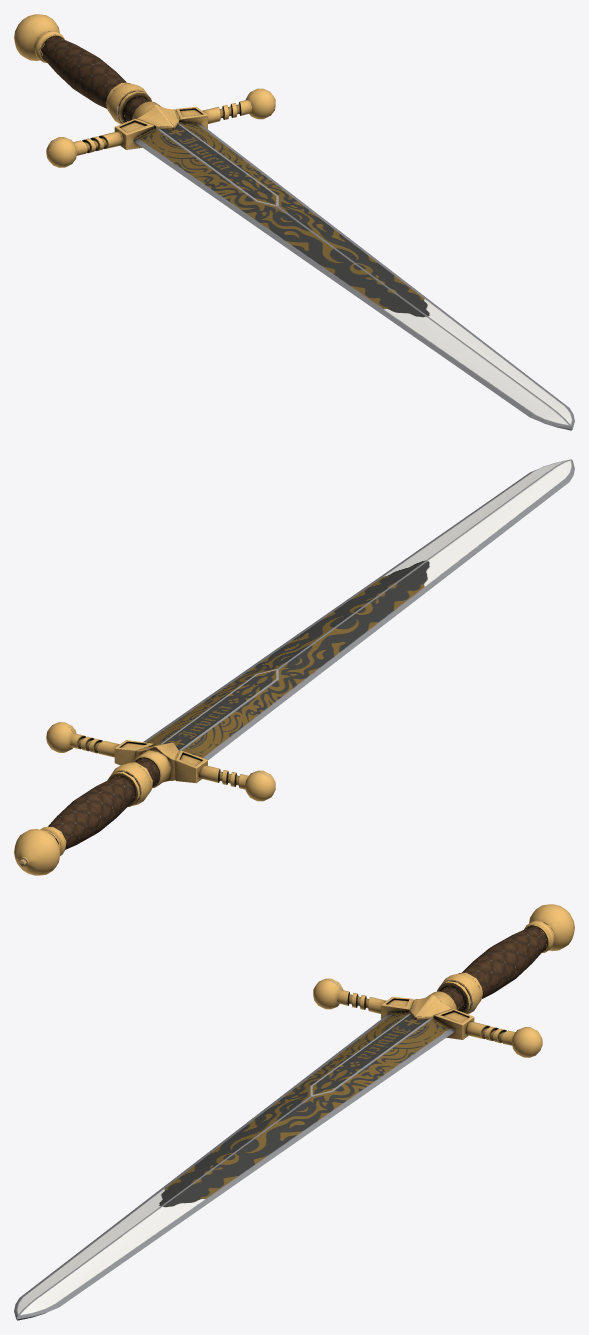
The model's file is w_broadsword.glb.
3 renders of one model, top to bottom at view 1: azimuth 30°, elevation 25°; view 2: azimuth 150°, elevation 25°; view 3: azimuth 330°, elevation 25°, orthographic.
Parts seen in each view (by area): view 1: defaultMaterial; view 2: defaultMaterial; view 3: defaultMaterial.
Part boxes in pixels (x1,y1,x2,y2): defaultMaterial: (14,14,574,430); defaultMaterial: (14,459,574,875); defaultMaterial: (14,904,574,1320).
Size of the model in its own units: 0.4703 by 0.0857 by 1.99.
Materials: 1 (1 with a texture image).
